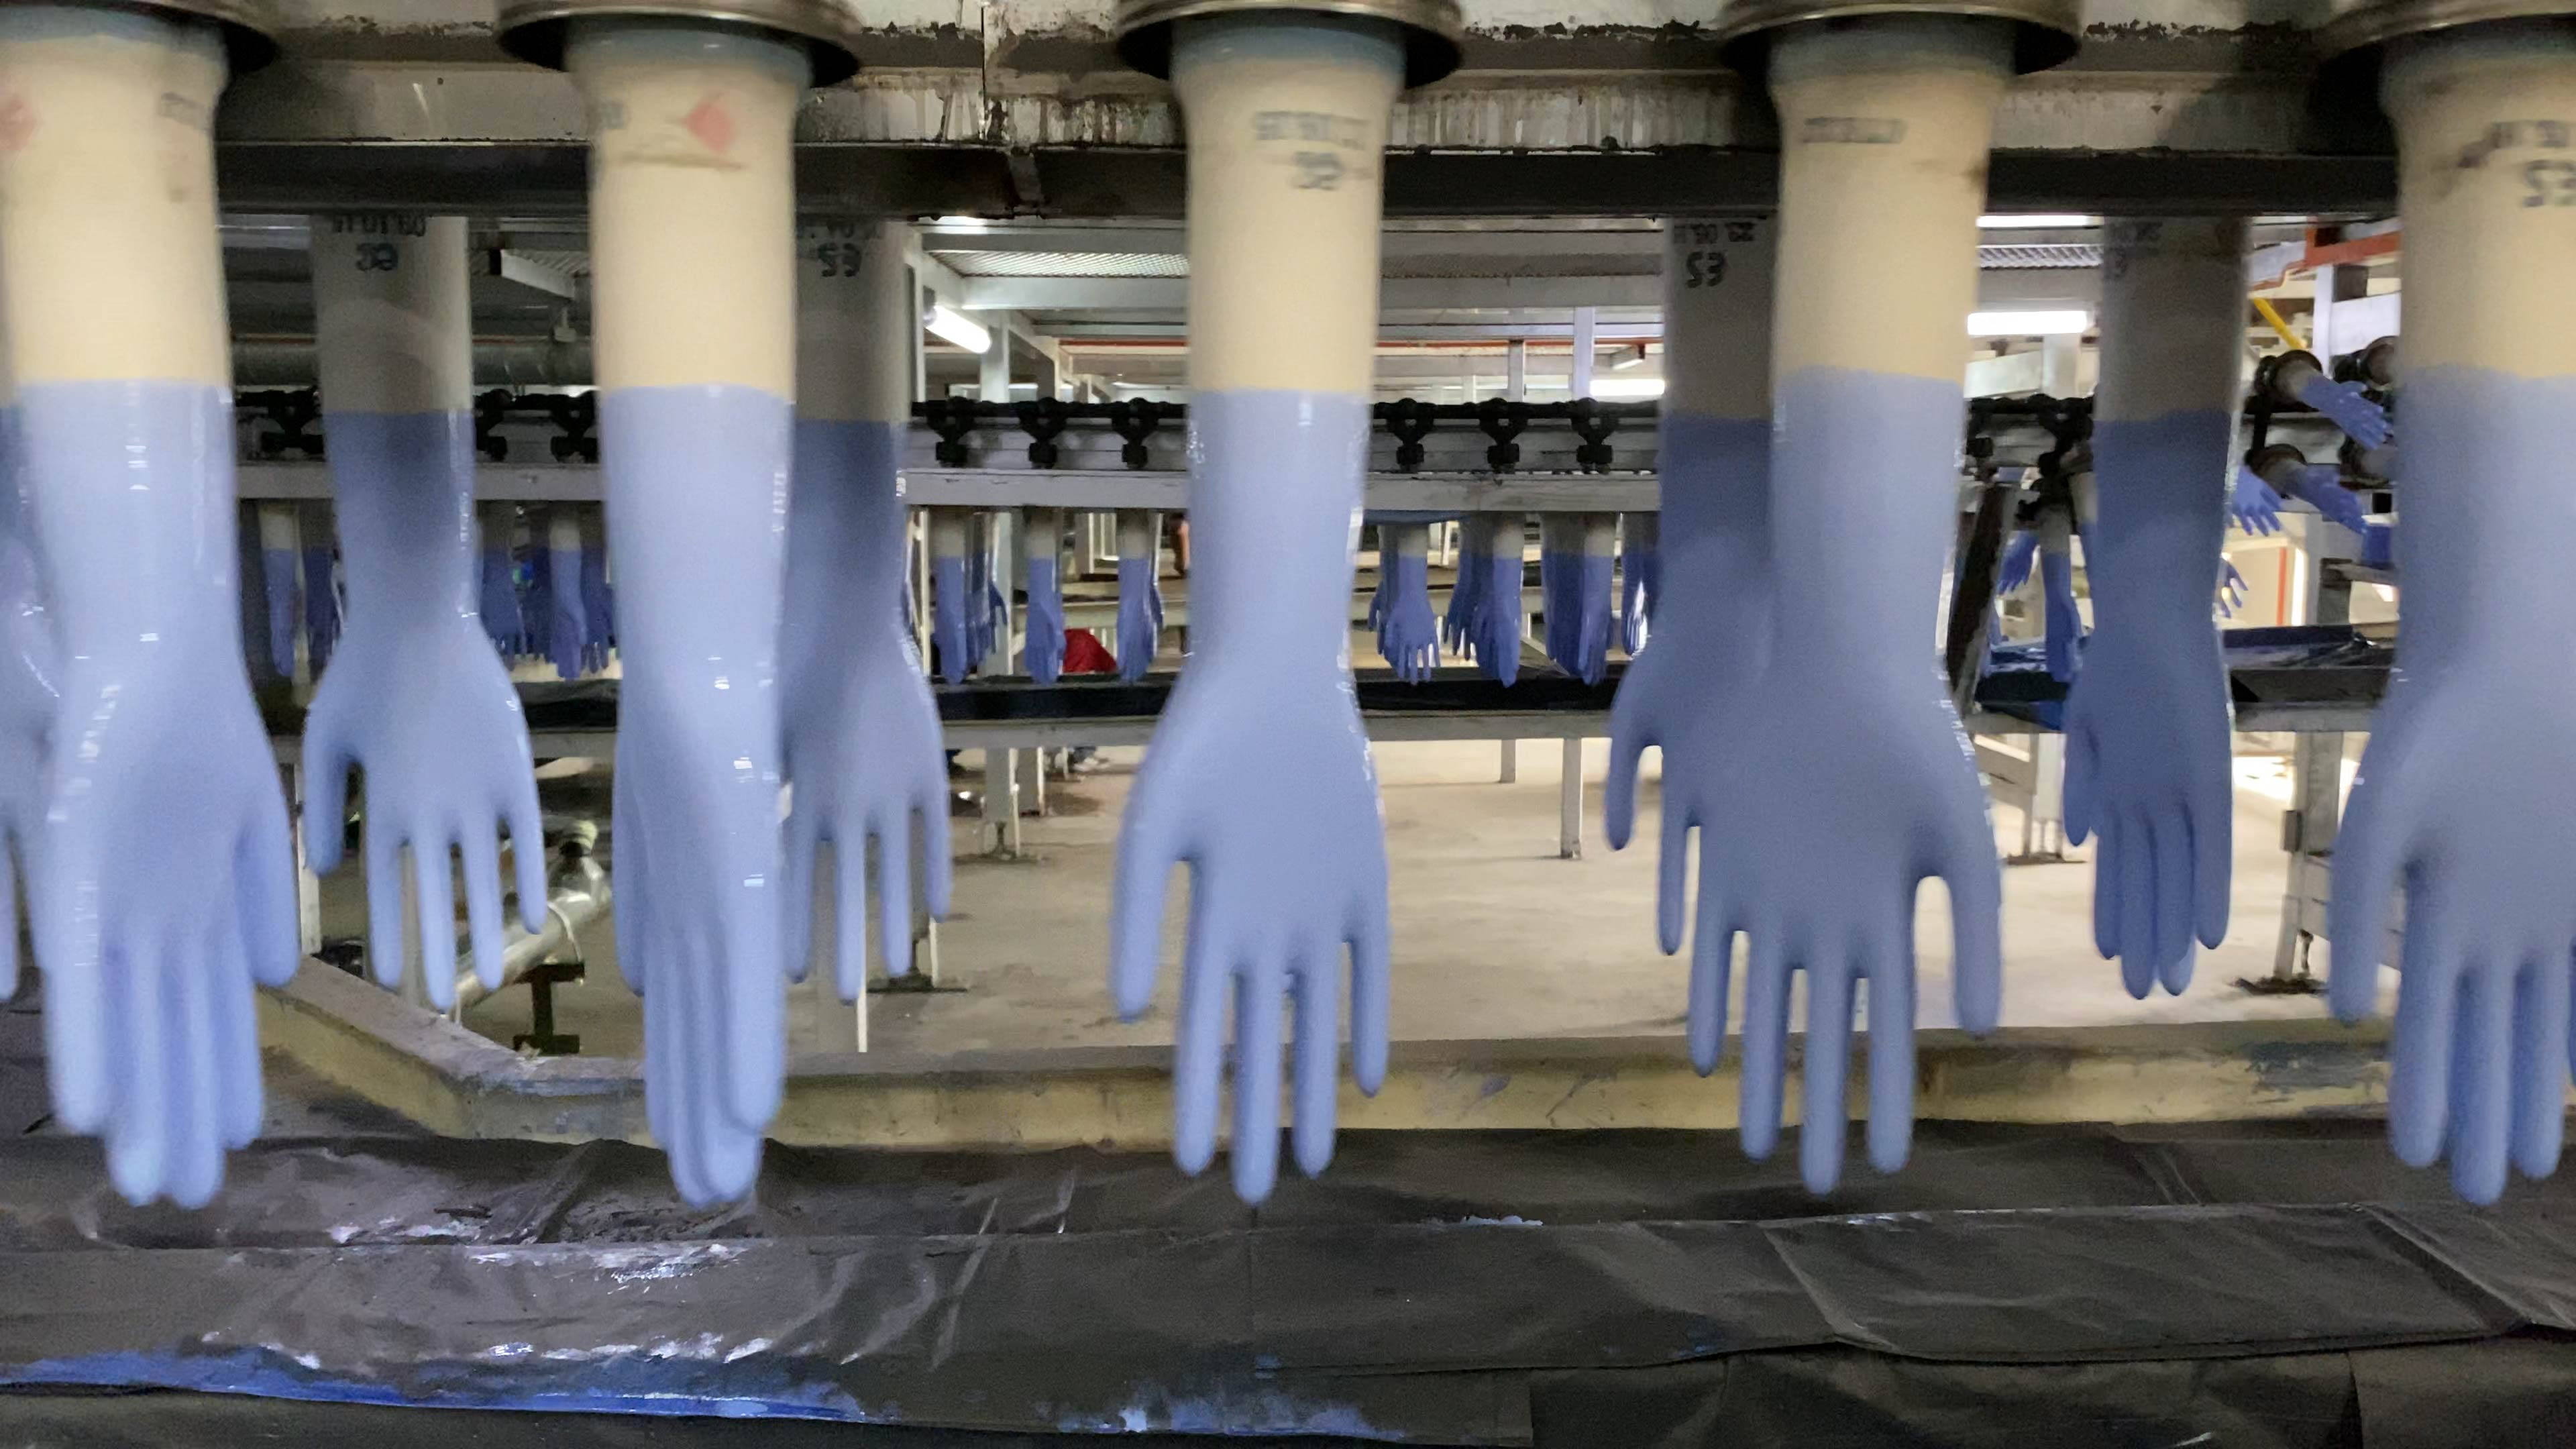glove: (1691, 373, 2005, 1194), (0, 380, 299, 1212), (1115, 387, 1391, 1203), (2330, 375, 2571, 1200), (594, 384, 787, 1207), (303, 407, 550, 1001), (780, 418, 950, 1003), (2065, 423, 2235, 1000), (1606, 416, 1775, 950), (1378, 557, 1444, 686), (472, 545, 524, 669), (2309, 375, 2390, 451), (2288, 458, 2371, 533), (547, 552, 591, 683), (925, 563, 971, 688), (1445, 556, 1497, 667), (258, 550, 301, 683), (1111, 557, 1155, 679), (1026, 556, 1063, 683), (1491, 552, 1525, 688), (2231, 460, 2284, 543), (1999, 538, 2036, 602)
